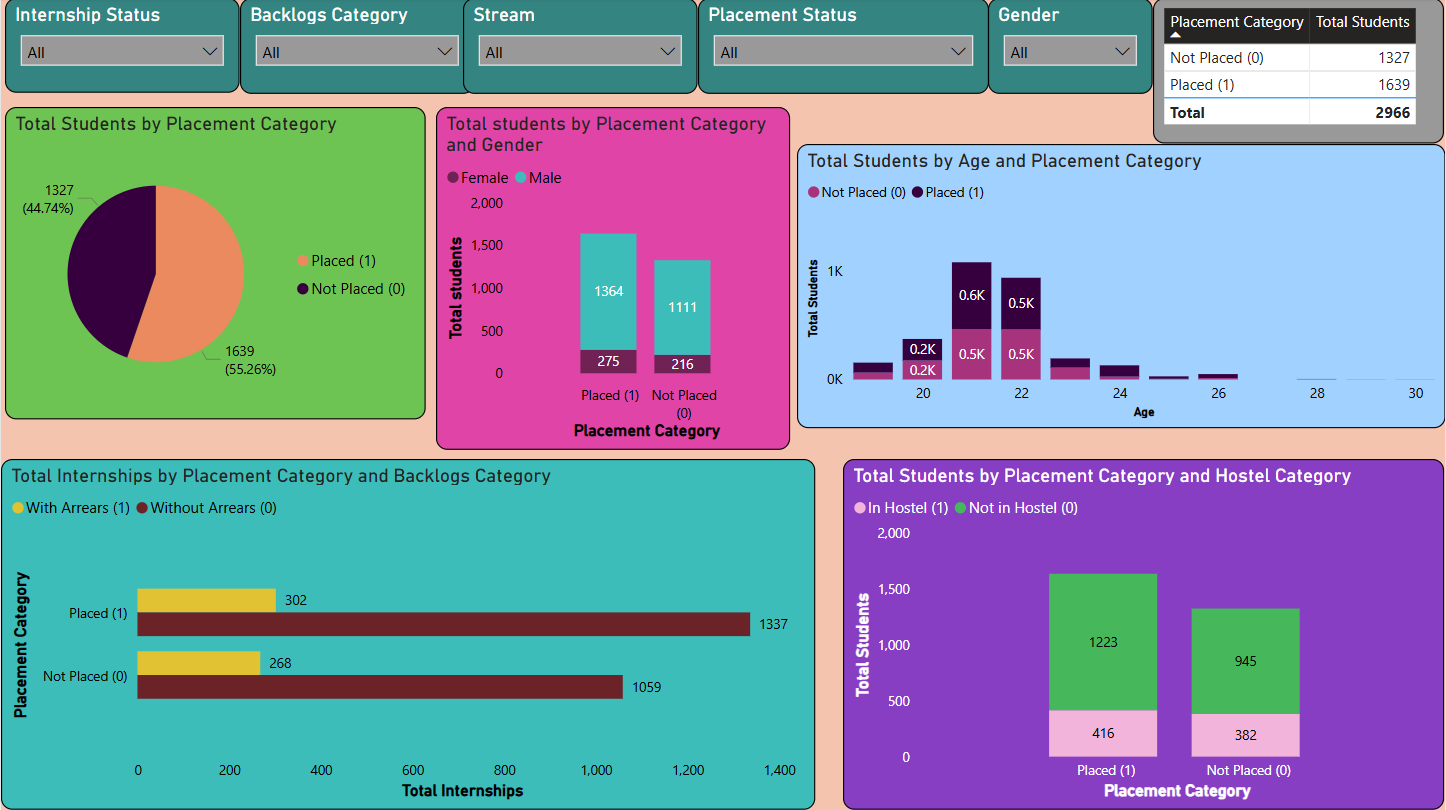

What the dashboard file says about the page in this screenshot:
{"tool":"powerbi","page":{"name":"Placement Analysis","canvas":[1280,720],"ordinal":6},"visuals":[{"type":"columnChart","fields":{"Category":["collegePlace. placement1"],"Y":["CountNonNull(collegePlace.Age)"],"Series":["collegePlace.Gender"]},"box":[386.1,96.3,314.2,304.4],"z":0},{"type":"clusteredBarChart","fields":{"Category":["collegePlace. placement1"],"Series":["collegePlace.Backlogs Category"],"Y":["CountNonNull(collegePlace.Internships)"]},"box":[0,408.5,721.7,311.2],"z":1000},{"type":"columnChart","fields":{"Category":["collegePlace. placement1"],"Series":["collegePlace.Hostel Category"],"Y":["CountNonNull(collegePlace. placement1)"]},"box":[747,408.5,533,311.2],"z":2000},{"type":"pieChart","fields":{"Category":["collegePlace. placement1"],"Y":["CountNonNull(collegePlace. placement1)"]},"box":[3.9,96.3,373.5,277.2],"z":3000},{"type":"tableEx","fields":{"Values":["collegePlace. placement1","CountNonNull(collegePlace. placement1)"]},"box":[1021.3,0,258.7,113.8],"z":4000},{"type":"columnChart","fields":{"Category":["collegePlace.Age"],"Y":["CountNonNull(collegePlace.Internships)"],"Series":["collegePlace. placement1"]},"box":[706.1,96.3,573.9,285],"z":5000},{"type":"slicer","title":"Backlogs Category","fields":{"Values":["collegePlace.Backlogs Category"]},"box":[212,0,208.1,84.6],"z":6000},{"type":"slicer","title":"Stream","fields":{"Values":["collegePlace.Stream"]},"box":[409.5,0,208.1,84.6],"z":7000},{"type":"slicer","title":"Hostel Category","fields":{"Values":["collegePlace.Hostel Category"]},"box":[661.5,0,208.4,84.2],"z":8000},{"type":"slicer","title":"Internship Status","fields":{"Values":["collegePlace.Internship Status"]},"box":[3.5,0,208.4,84.2],"z":9000},{"type":"slicer","title":"Placement Status","fields":{"Values":["collegePlace.placement status"]},"box":[617.6,0,257.8,84.6],"z":10000},{"type":"slicer","title":"Gender","fields":{"Values":["collegePlace.Gender"]},"box":[875.4,0,145.9,84.6],"z":11000}]}

Visuals, with their boxes in screenshot pixels (x1, y1, x2, y2), scaled from the page's 1280x720 canvas onto the 1446x810 screenshot:
columnChart - collegePlace. placement1 x CountNonNull(collegePlace.Age): [x1=436, y1=108, x2=791, y2=451]
clusteredBarChart - collegePlace. placement1 x collegePlace.Backlogs Category: [x1=0, y1=460, x2=815, y2=809]
columnChart - collegePlace. placement1 x collegePlace.Hostel Category: [x1=844, y1=460, x2=1445, y2=809]
pieChart - collegePlace. placement1 x CountNonNull(collegePlace. placement1): [x1=4, y1=108, x2=426, y2=420]
tableEx - collegePlace. placement1 x CountNonNull(collegePlace. placement1): [x1=1154, y1=0, x2=1445, y2=128]
columnChart - collegePlace.Age x CountNonNull(collegePlace.Internships): [x1=798, y1=108, x2=1445, y2=429]
"Backlogs Category" slicer: [x1=239, y1=0, x2=475, y2=95]
"Stream" slicer: [x1=463, y1=0, x2=698, y2=95]
"Hostel Category" slicer: [x1=747, y1=0, x2=983, y2=95]
"Internship Status" slicer: [x1=4, y1=0, x2=239, y2=95]
"Placement Status" slicer: [x1=698, y1=0, x2=989, y2=95]
"Gender" slicer: [x1=989, y1=0, x2=1154, y2=95]
